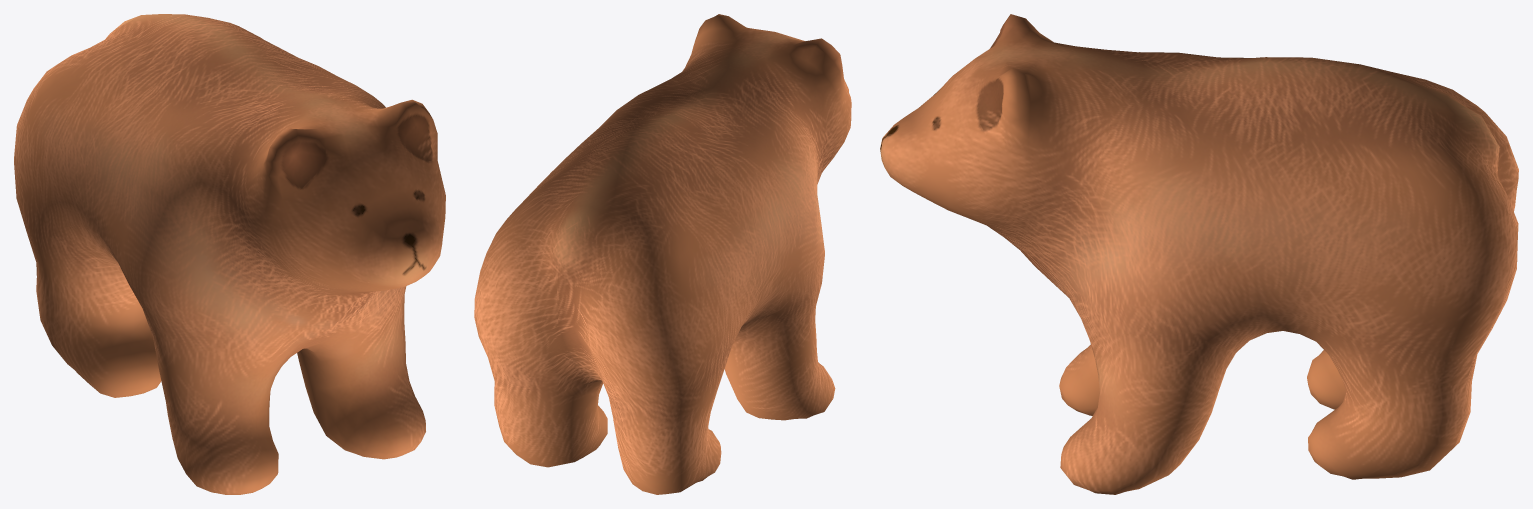
The model's file is bearf.obj.
3 renders of one model, left to right at view 1: azimuth 30°, elevation 25°; view 2: azimuth 150°, elevation 25°; view 3: azimuth 270°, elevation 25°, orthographic. The views are drawn at different scales.
Parts seen in each view (by area): view 1: lp_1502; view 2: lp_1502; view 3: lp_1502.
Part boxes in pixels (x1,y1,x2,y2): lp_1502: [14, 14, 445, 494]; lp_1502: [474, 14, 851, 494]; lp_1502: [880, 14, 1518, 494].
Bounding box in the file's own units: 11.97 × 16.74 × 24.01.
1 material, 1 textured.
